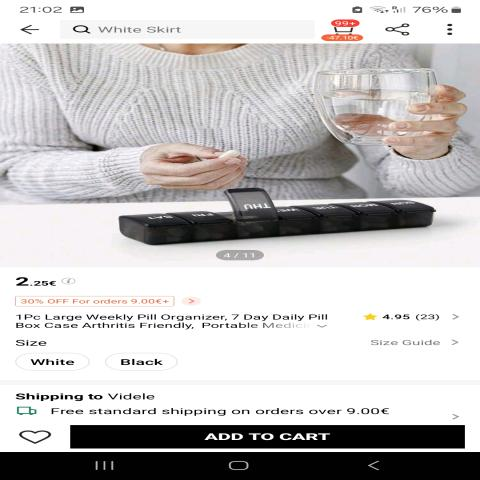PillBox: (84, 182, 465, 246)
